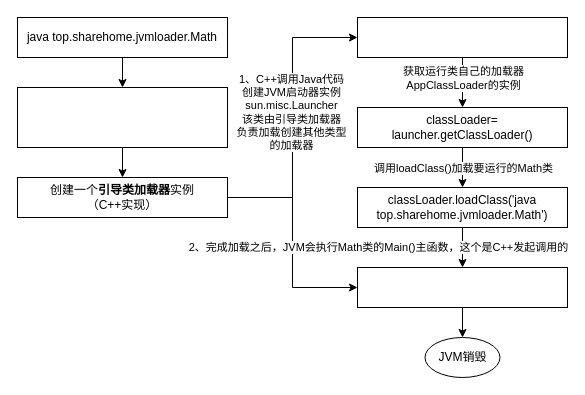
Some shapes in this 585 by 395 pixel diagram are drawn without their labels. Here are the shapes that lost their labels. From the top down, the centre of each, then its label:
pixel 462 37: launcher= sun.misc.Launcher.getLauncher()
pixel 122 117: Windows系统由java.exe调用底层的jvm.dll文件创建Java虚拟机 （由C++实现）
pixel 462 287: Math.main()
